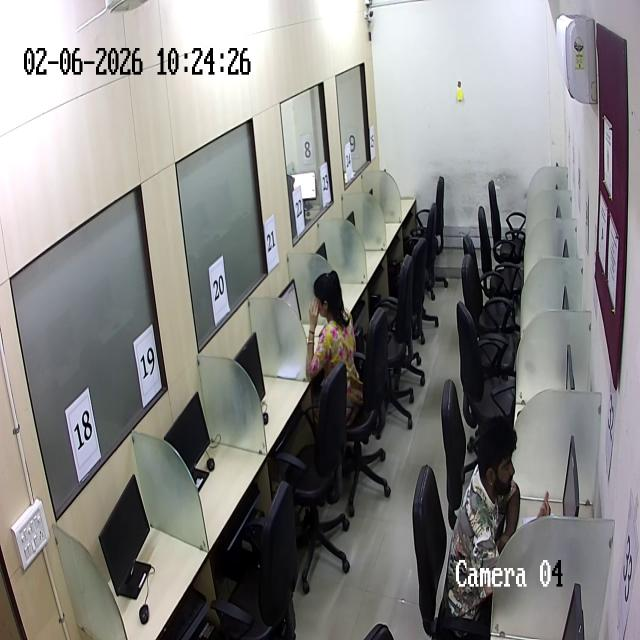phone: (539, 491, 551, 521)
